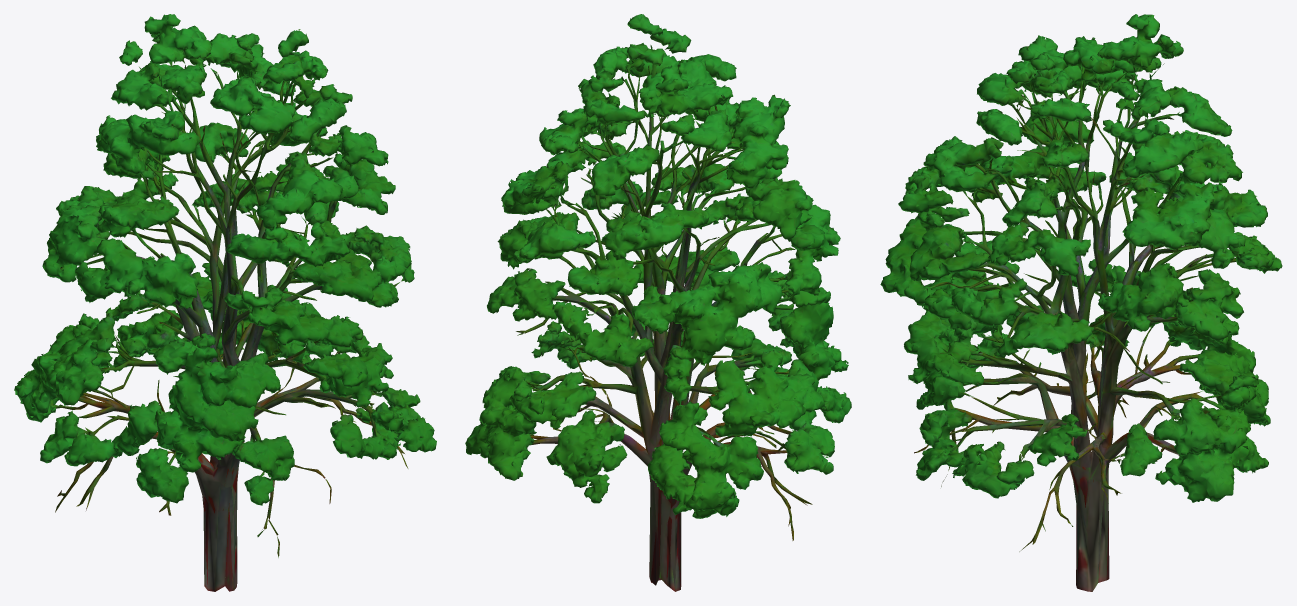
Rendered from tall-tulip-tree-r5_semantic.glb.
The picture shows the model from 3 angles, left to right: view 1: azimuth 30°, elevation 25°; view 2: azimuth 150°, elevation 25°; view 3: azimuth 270°, elevation 25°; orthographic projection. The views are drawn at different scales.
Parts seen in each view (by area): view 1: Mesh_0; view 2: Mesh_0; view 3: Mesh_0.
Boxes of the visible parts, x1,y1,x2,y2 form: Mesh_0: (14,14,436,591); Mesh_0: (465,14,851,591); Mesh_0: (880,14,1282,591).
Bounding box in the file's own units: 12.66 × 19.89 × 13.
Materials: 2 (2 with a texture image).
